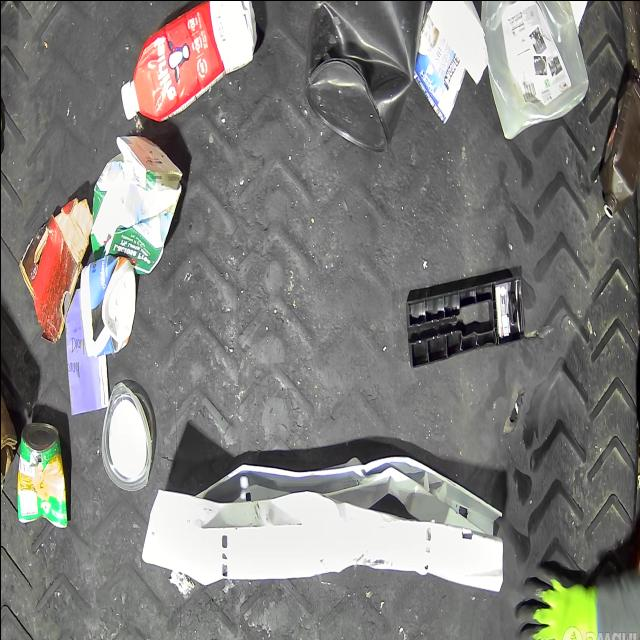can: (17, 422, 68, 526)
milk_jug: (479, 0, 588, 139)
non_white_jug: (303, 0, 428, 154), (90, 134, 182, 275), (600, 78, 640, 218)
